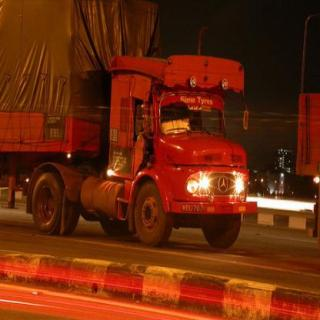Normal_vehicle: (5, 14, 247, 252)
